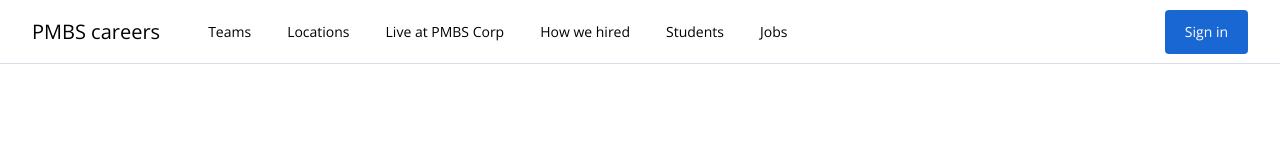
Scenario: MainNav › when user log in › displays user profile image
Click the button "Sign in" at (1206, 32), box [1165,10,1248,54]
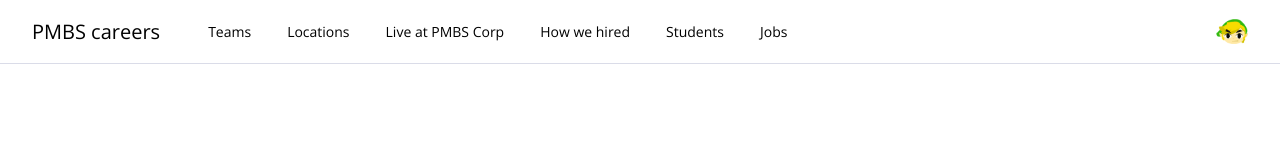
Check: the picture named "profile image" is shown
Click the picture named "profile image" at (1232, 32), box [1216,16,1248,48]
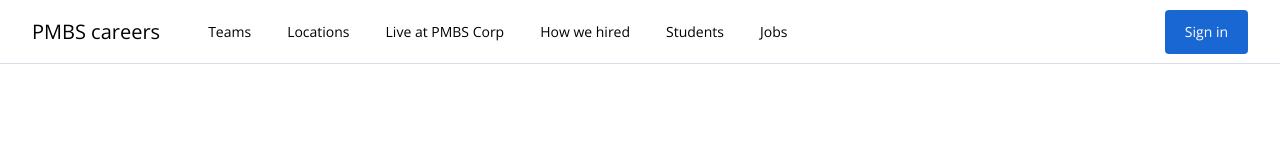
Check: the button "Sign in" is shown, box [1165,10,1248,54]
